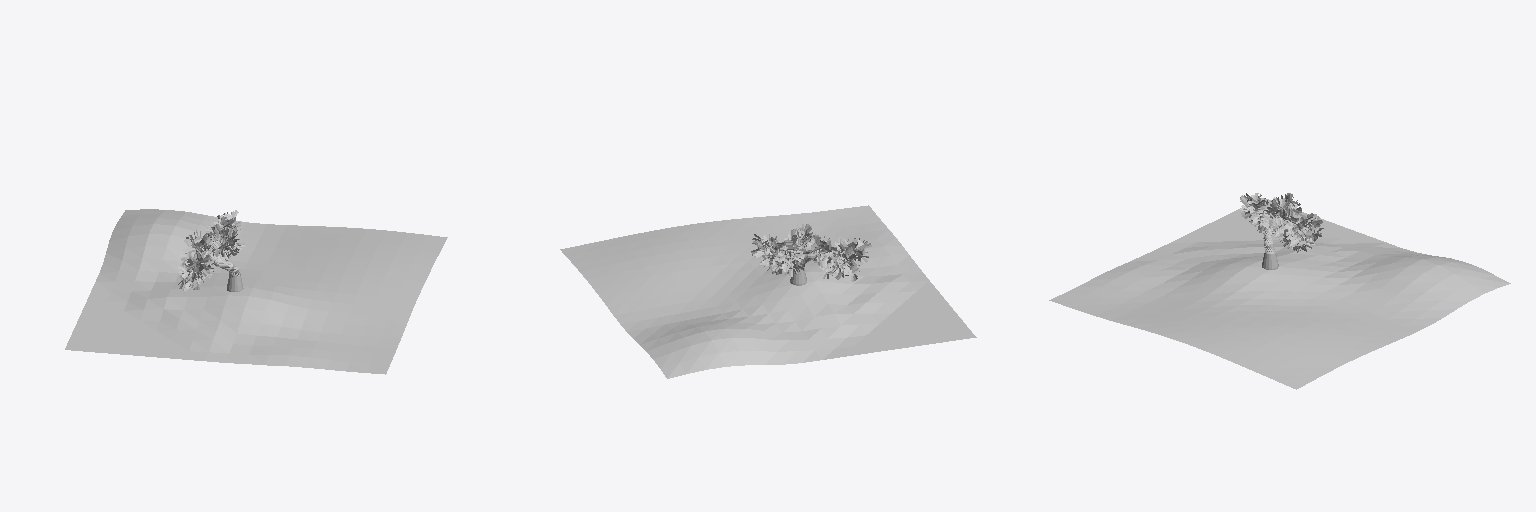
3 views of the same model, side by side, from view 1: azimuth 30°, elevation 25°; view 2: azimuth 150°, elevation 25°; view 3: azimuth 270°, elevation 25° (orthographic).
Visible parts, largest first — view 1: Ground_Plane, Leaves, Trunk; view 2: Ground_Plane, Leaves; view 3: Ground_Plane, Leaves.
Part boxes in pixels (bbox=[...]): Ground_Plane: bbox=[65, 209, 447, 374]; Leaves: bbox=[178, 210, 244, 291]; Trunk: bbox=[184, 224, 243, 291]; Ground_Plane: bbox=[560, 205, 976, 378]; Leaves: bbox=[751, 224, 871, 281]; Ground_Plane: bbox=[1049, 198, 1510, 389]; Leaves: bbox=[1240, 193, 1323, 252].
Bounding box in the file's own units: 36.91 × 6.87 × 36.95.